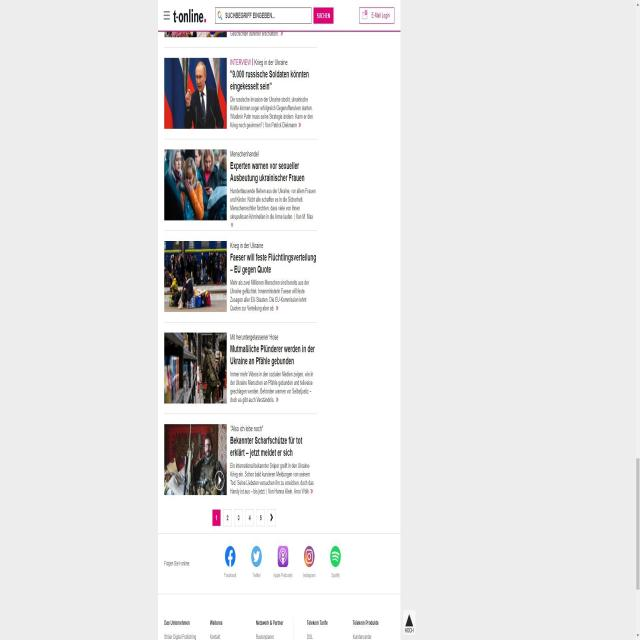button: (360, 8, 394, 24), (223, 545, 238, 581), (250, 544, 263, 579), (404, 611, 416, 635), (314, 8, 333, 23)
input: (215, 8, 311, 23)
